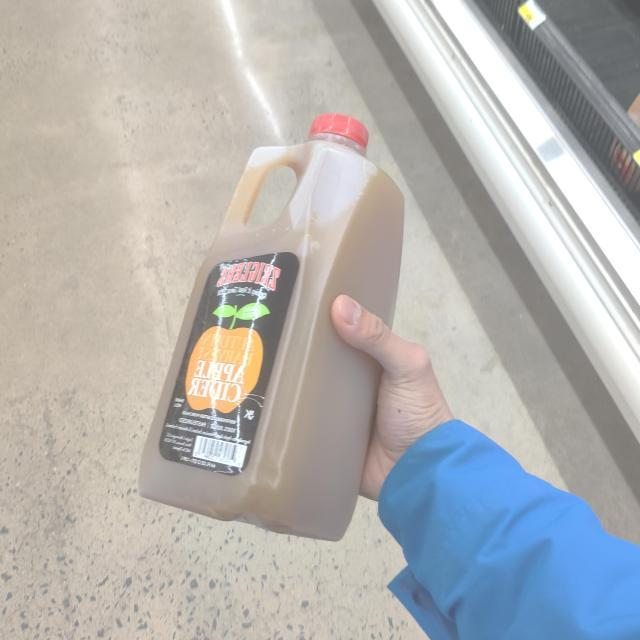Juice: (128, 106, 410, 540)
